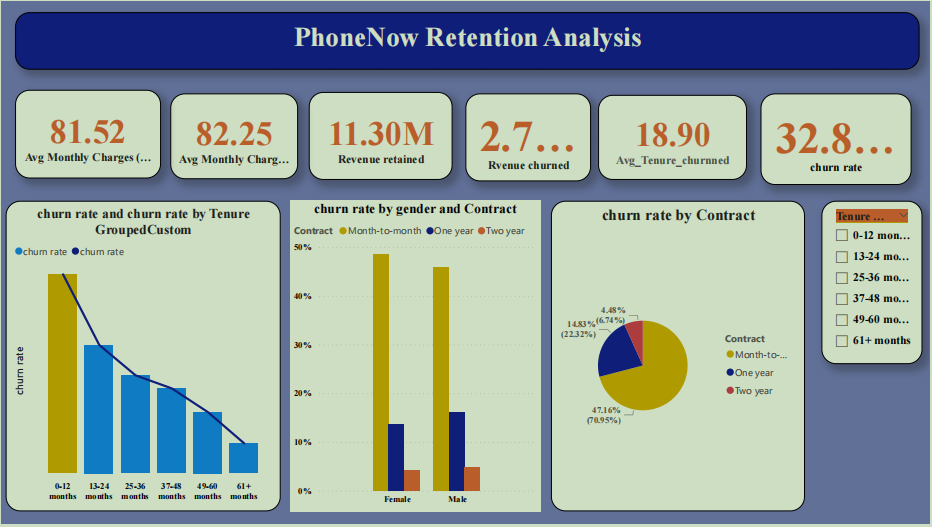

The page's visual inventory and layout, read from the dashboard file:
{"tool":"powerbi","page":{"name":"Page 1","canvas":[1280,720],"ordinal":0},"visuals":[{"type":"textbox","box":[19.3,15.1,1247,78.5],"z":0},{"type":"lineStackedColumnComboChart","fields":{"Category":["01 Churn-Dataset.Tenure GroupedCustom"],"Y":["01 Churn-Dataset.churn rate"],"Y2":["01 Churn-Dataset.churn rate"]},"box":[5.5,275.3,379.9,428],"z":1000},{"type":"pieChart","fields":{"Y":["01 Churn-Dataset.churn rate"],"Category":["01 Churn-Dataset.Contract"]},"box":[758.4,275.3,349.6,428],"z":2000},{"type":"card","fields":{"Values":["01 Churn-Dataset.churn rate"]},"box":[1047.4,126.6,207.8,126.6],"z":3000},{"type":"card","fields":{"Values":["01 Churn-Dataset.Rvenue churned"]},"box":[640,126.6,173.4,121.1],"z":4000},{"type":"card","fields":{"Values":["01 Churn-Dataset.Revenue retained"]},"box":[423.9,125.2,198.2,121.1],"z":5000},{"type":"card","fields":{"Values":["01 Churn-Dataset.Avg Monthly Charges (Churned)"]},"box":[232.6,126.6,176.2,118.4],"z":6000},{"type":"card","fields":{"Values":["01 Churn-Dataset.Avg Monthly Charges (NonChurned)"]},"box":[19.3,122.5,200.9,121.1],"z":7000},{"type":"clusteredColumnChart","fields":{"Category":["01 Churn-Dataset.gender"],"Y":["01 Churn-Dataset.churn rate"],"Series":["01 Churn-Dataset.Contract"]},"box":[399.1,275.3,344.1,428],"z":8000},{"type":"slicer","fields":{"Values":["01 Churn-Dataset.Churn"]},"box":[1131.4,275.3,139,224.3],"z":9000},{"type":"card","fields":{"Values":["01 Churn-Dataset.Avg_Tenure_churnned"]},"box":[823.1,129.4,205.1,117],"z":10000}]}

Visuals, with their boxes in screenshot pixels (x1, y1, x2, y2), scaled from the page's 1280x720 canvas onto the 932x527 screenshot:
textbox: [left=14, top=11, right=922, bottom=69]
lineStackedColumnComboChart - 01 Churn-Dataset.Tenure GroupedCustom x 01 Churn-Dataset.churn rate: [left=4, top=202, right=281, bottom=515]
pieChart - 01 Churn-Dataset.churn rate x 01 Churn-Dataset.Contract: [left=552, top=202, right=807, bottom=515]
card - 01 Churn-Dataset.churn rate: [left=763, top=93, right=914, bottom=185]
card - 01 Churn-Dataset.Rvenue churned: [left=466, top=93, right=592, bottom=181]
card - 01 Churn-Dataset.Revenue retained: [left=309, top=92, right=453, bottom=180]
card - 01 Churn-Dataset.Avg Monthly Charges (Churned): [left=169, top=93, right=298, bottom=179]
card - 01 Churn-Dataset.Avg Monthly Charges (NonChurned): [left=14, top=90, right=160, bottom=178]
clusteredColumnChart - 01 Churn-Dataset.gender x 01 Churn-Dataset.churn rate: [left=291, top=202, right=541, bottom=515]
slicer - 01 Churn-Dataset.Churn: [left=824, top=202, right=925, bottom=366]
card - 01 Churn-Dataset.Avg_Tenure_churnned: [left=599, top=95, right=749, bottom=180]
